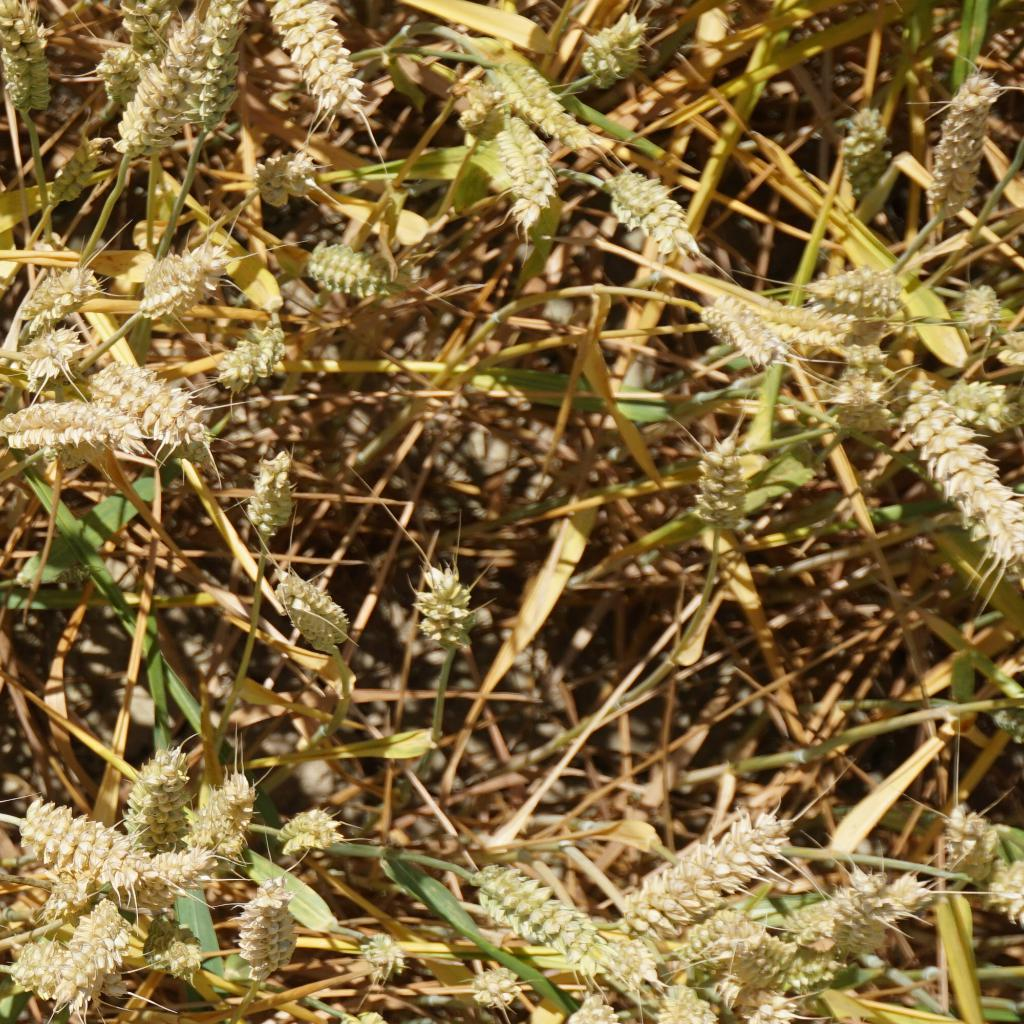0-0: (608, 805, 800, 941), (901, 385, 1024, 562), (470, 859, 610, 978), (88, 362, 215, 476), (263, 0, 370, 127), (915, 72, 999, 220), (800, 853, 925, 944), (112, 7, 187, 150), (58, 900, 142, 1012), (603, 162, 699, 257), (22, 797, 137, 876), (120, 743, 195, 854), (272, 567, 359, 662), (688, 425, 760, 539), (193, 1, 254, 133), (491, 119, 559, 235), (300, 236, 406, 306), (411, 554, 489, 649), (749, 285, 853, 354), (35, 863, 182, 910), (0, 389, 113, 449), (1, 260, 99, 328), (493, 56, 579, 132), (186, 776, 264, 859), (570, 14, 659, 86), (211, 321, 298, 392), (243, 143, 333, 211), (133, 236, 220, 305), (238, 449, 303, 541), (0, 0, 48, 120), (233, 881, 290, 981), (809, 260, 908, 316), (833, 103, 892, 196), (142, 840, 228, 901), (947, 369, 1024, 437), (828, 371, 900, 442), (695, 292, 772, 358), (682, 894, 739, 981), (4, 316, 89, 374), (728, 927, 806, 989), (930, 792, 984, 877), (835, 876, 883, 967), (587, 931, 656, 994), (45, 131, 106, 199), (955, 277, 1007, 356), (975, 853, 1024, 931), (274, 804, 342, 860), (735, 981, 816, 1024), (466, 958, 527, 1011), (348, 925, 411, 975), (331, 996, 440, 1024), (556, 985, 631, 1024), (88, 38, 133, 100), (452, 76, 497, 131), (155, 932, 201, 982), (11, 938, 56, 988), (119, 0, 162, 42)
